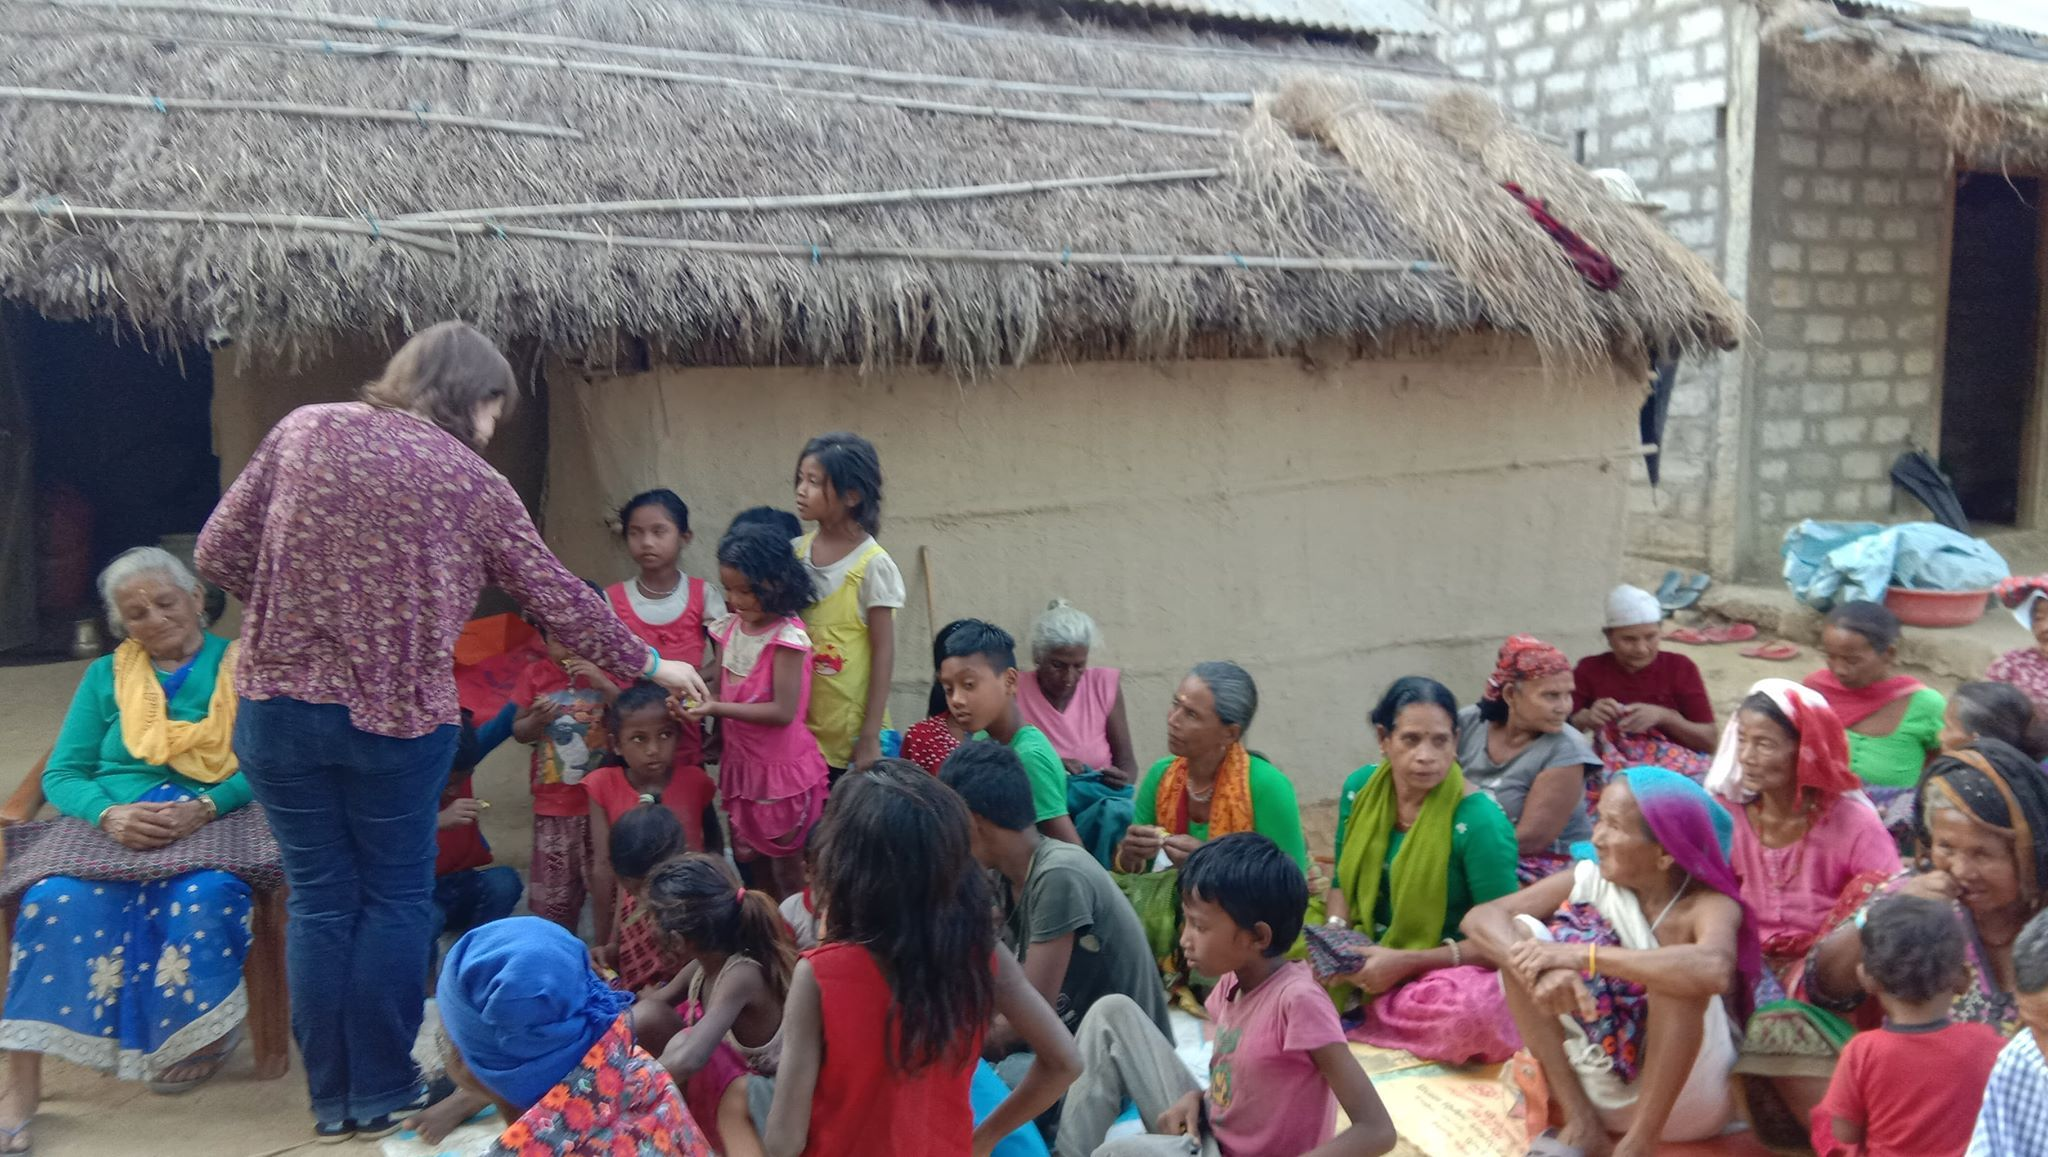human: (173, 301, 707, 1150), (1, 510, 281, 1154), (759, 748, 1095, 1157), (1448, 764, 1749, 1157), (1052, 830, 1400, 1157), (1301, 661, 1531, 1081), (1693, 653, 1920, 989), (680, 506, 853, 920), (1125, 620, 1323, 950), (572, 474, 748, 841), (764, 417, 923, 797), (1791, 885, 2013, 1157), (497, 572, 648, 932), (1763, 590, 1967, 781), (1440, 626, 1611, 852), (1543, 572, 1723, 776)
